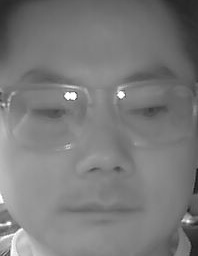glass: (7, 79, 89, 152), (109, 79, 192, 147)
mouth: (60, 192, 139, 227)
